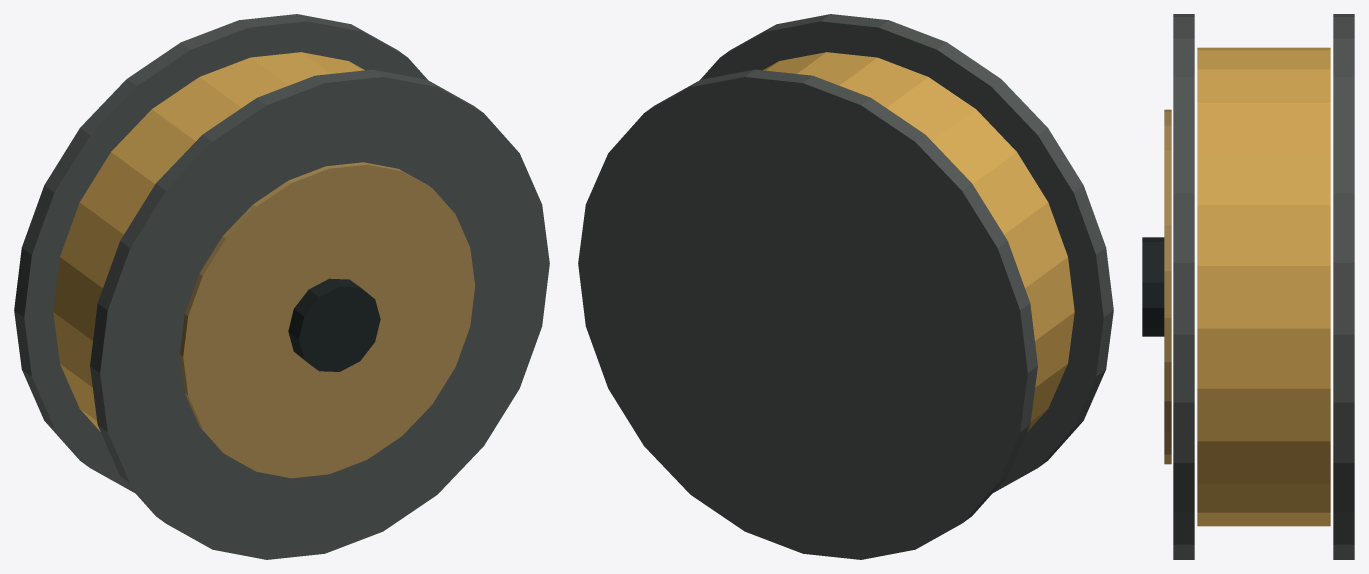
The model's file is fly_line.glb.
3 renders of one model, left to right at view 1: azimuth 30°, elevation 25°; view 2: azimuth 150°, elevation 25°; view 3: azimuth 270°, elevation 25°, orthographic. The views are drawn at different scales.
Parts seen in each view (by area): view 1: Spool_flange.014, Front_label.007, Spool_flange.015, Wound_line.007, Center_hub; view 2: Spool_flange.015, Spool_flange.014, Wound_line.007; view 3: Wound_line.007, Spool_flange.014, Spool_flange.015, Front_label.007, Center_hub.
Part boxes in pixels (left/top/right/bottom): Spool_flange.014: left=90, top=69, right=549, bottom=559; Front_label.007: left=180, top=162, right=475, bottom=478; Spool_flange.015: left=14, top=14, right=427, bottom=493; Wound_line.007: left=53, top=52, right=364, bottom=431; Center_hub: left=288, top=278, right=380, bottom=371; Spool_flange.015: left=578, top=69, right=1037, bottom=559; Spool_flange.014: left=700, top=14, right=1113, bottom=493; Wound_line.007: left=763, top=52, right=1074, bottom=431; Wound_line.007: left=1197, top=47, right=1330, bottom=526; Spool_flange.014: left=1173, top=14, right=1194, bottom=559; Spool_flange.015: left=1333, top=14, right=1354, bottom=559; Front_label.007: left=1164, top=109, right=1171, bottom=464; Center_hub: left=1142, top=237, right=1164, bottom=336.
Bounding box in the file's own units: 0.308 × 0.308 × 0.1195.
